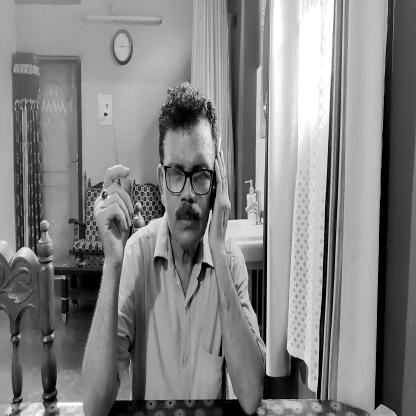Normal: (155, 86, 218, 254)
